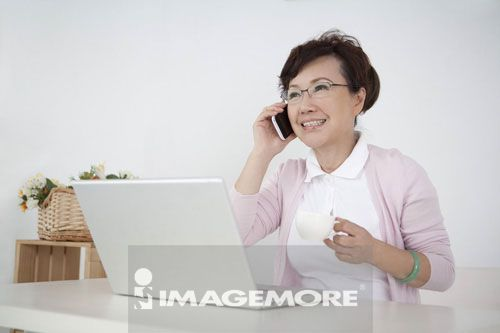talk: (251, 71, 342, 158)
